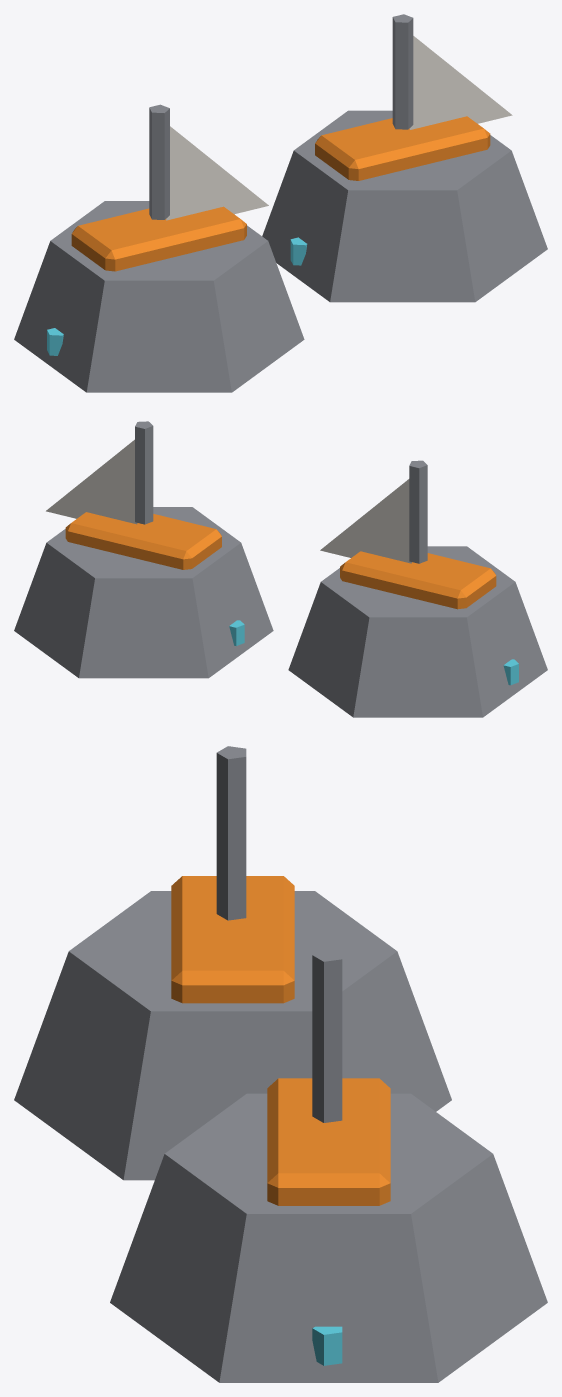
File: imp_fishing_boats.glb
3 views of the same model, one above another, from view 1: azimuth 30°, elevation 25°; view 2: azimuth 150°, elevation 25°; view 3: azimuth 270°, elevation 25° (orthographic). The views are drawn at different scales.
Parts seen in each view (by area): view 1: imp_fishing_boats; view 2: imp_fishing_boats; view 3: imp_fishing_boats.
Part boxes in pixels (left/top/right/bottom): imp_fishing_boats: left=14, top=14, right=547, bottom=392; imp_fishing_boats: left=14, top=421, right=547, bottom=717; imp_fishing_boats: left=14, top=746, right=547, bottom=1382.
Size of the model in its own units: 0.6328 by 0.28 by 0.39.
